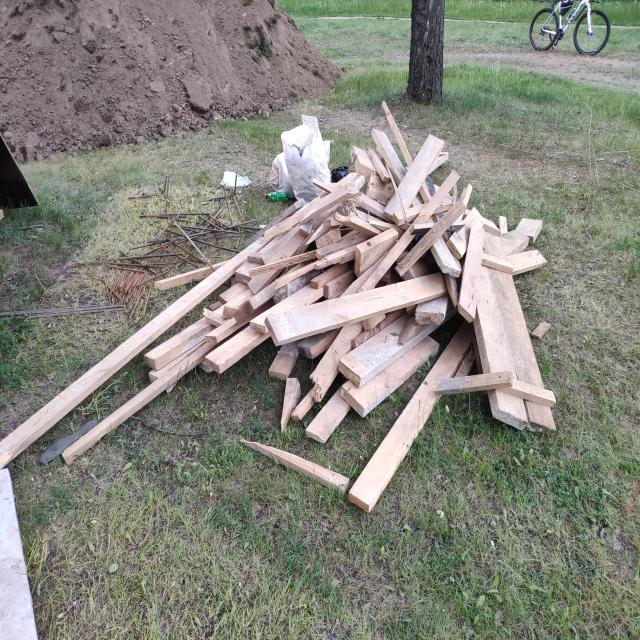entulho: (0, 298, 241, 472), (264, 188, 427, 359), (138, 232, 304, 392), (277, 331, 387, 437), (340, 305, 443, 416), (348, 387, 426, 513), (488, 311, 562, 428), (379, 130, 450, 229), (238, 438, 348, 496), (282, 118, 336, 206), (375, 129, 412, 188), (479, 250, 547, 275), (352, 147, 383, 185), (274, 149, 295, 194)
terra: (0, 0, 329, 160)
